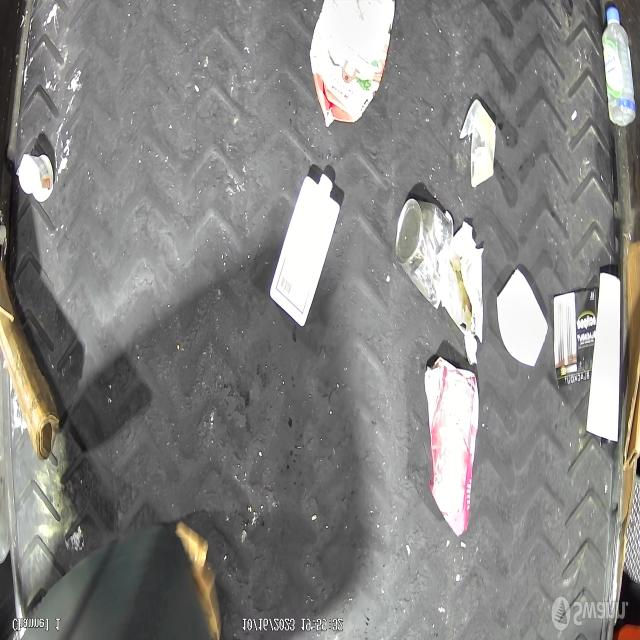can: (393, 189, 461, 318)
non_white_jug: (309, 0, 396, 132), (423, 357, 479, 531)
plastic_bottle: (602, 0, 640, 132)
